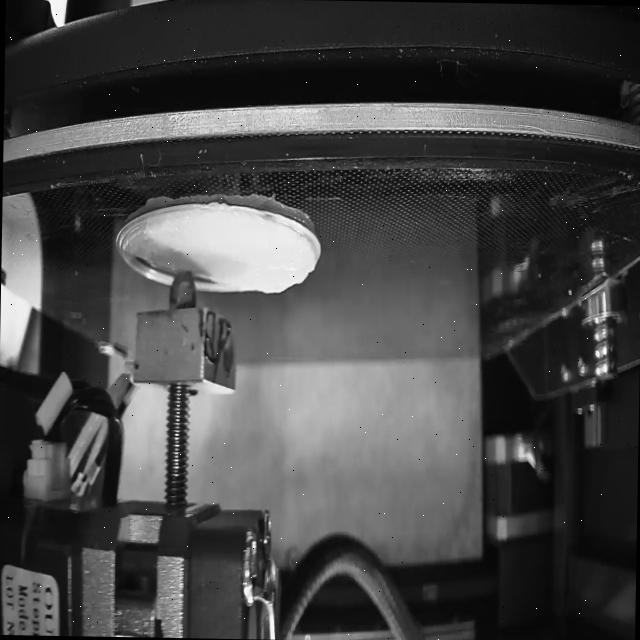over_extrusion: (252, 237, 321, 302)
